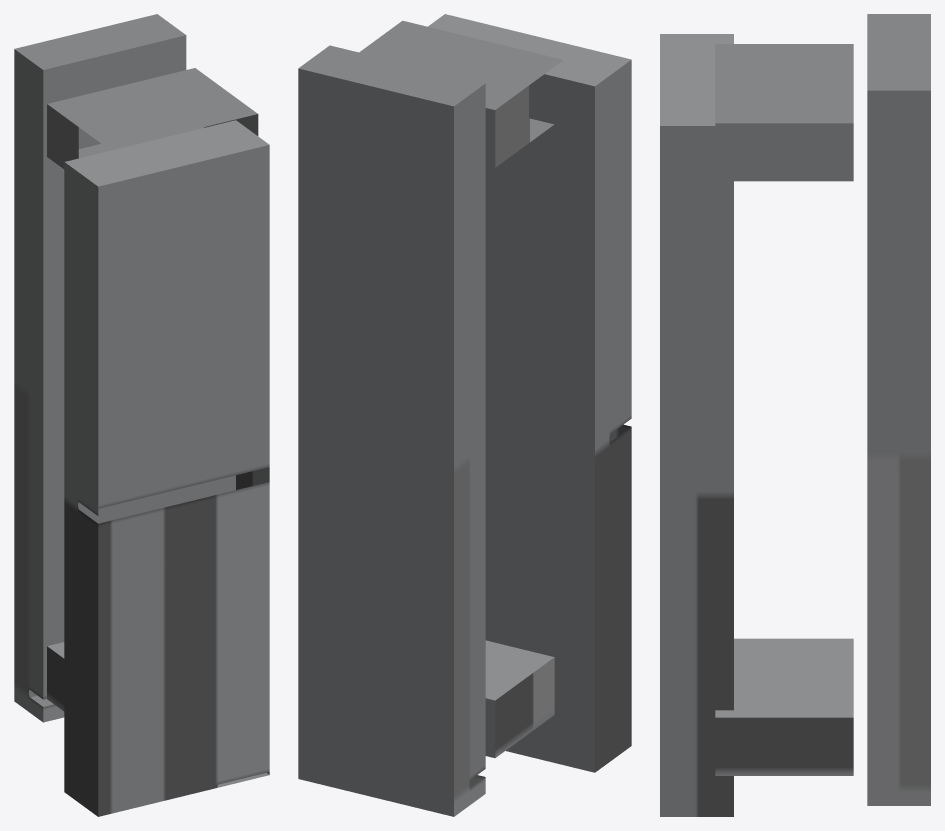
3 renders of one model, left to right at view 1: azimuth 30°, elevation 25°; view 2: azimuth 150°, elevation 25°; view 3: azimuth 270°, elevation 25°, orthographic. The views are drawn at different scales.
Size of the model in its own units: 0.2186 by 0.7535 by 0.2526.
